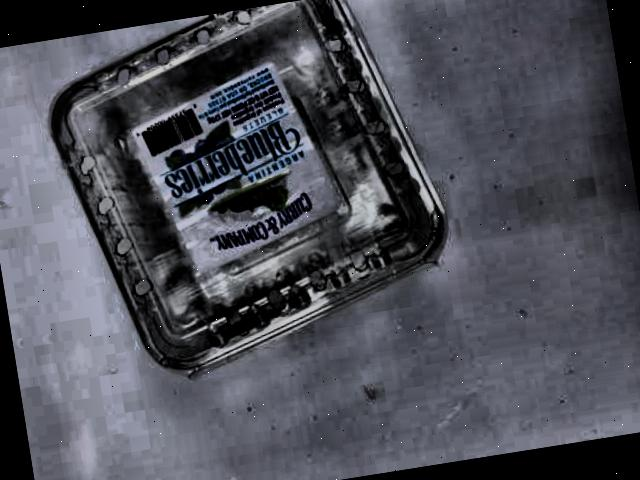Plastic: (23, 0, 485, 397)
